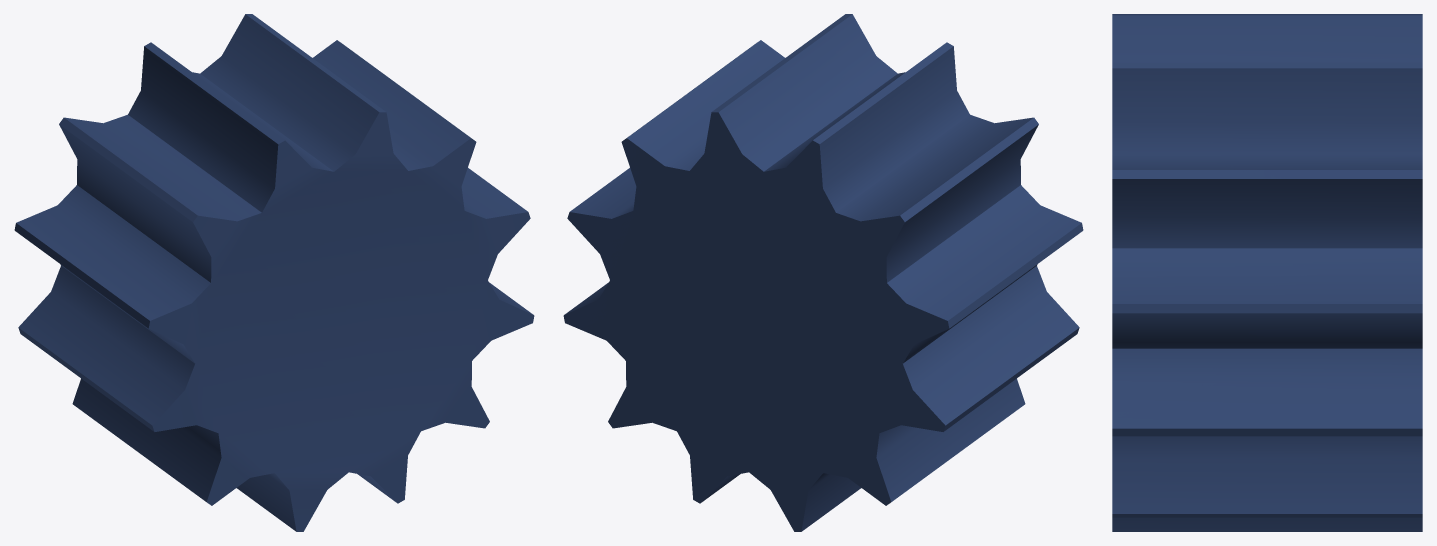
Rendered from SquggleWheel3_collider.fbx.
3 renders of one model, left to right at view 1: azimuth 30°, elevation 25°; view 2: azimuth 150°, elevation 25°; view 3: azimuth 270°, elevation 25°, orthographic. The views are drawn at different scales.
Parts seen in each view (by area): view 1: Wheel3; view 2: Wheel3; view 3: Wheel3.
Boxes of the visible parts, <box> form: Wheel3: <box>14,14,534,531</box>; Wheel3: <box>563,14,1083,531</box>; Wheel3: <box>1112,14,1422,531</box>.
Bounding box in the file's own units: 11.06 × 10.99 × 6.66.
